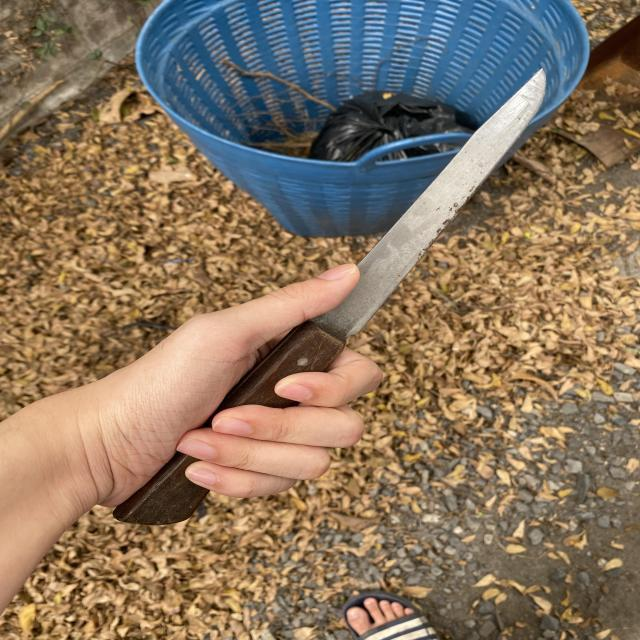faca: (130, 52, 560, 570)
